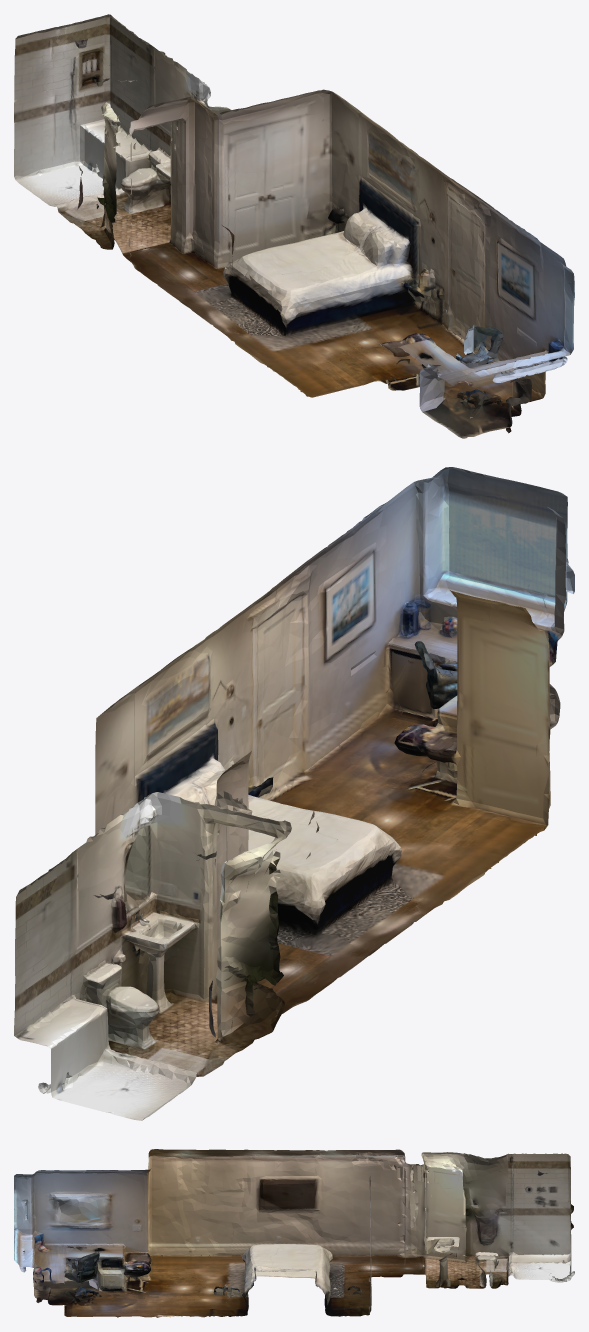
The model's file is AirBnB - LiDAR w_ manual shutter.glb.
3 views of the same model, one above another, from view 1: azimuth 30°, elevation 25°; view 2: azimuth 150°, elevation 25°; view 3: azimuth 270°, elevation 25° (orthographic). The views are drawn at different scales.
Bounding box in the file's own units: 2.98 × 2.54 × 10.99.
Materials: 1 (1 with a texture image).
